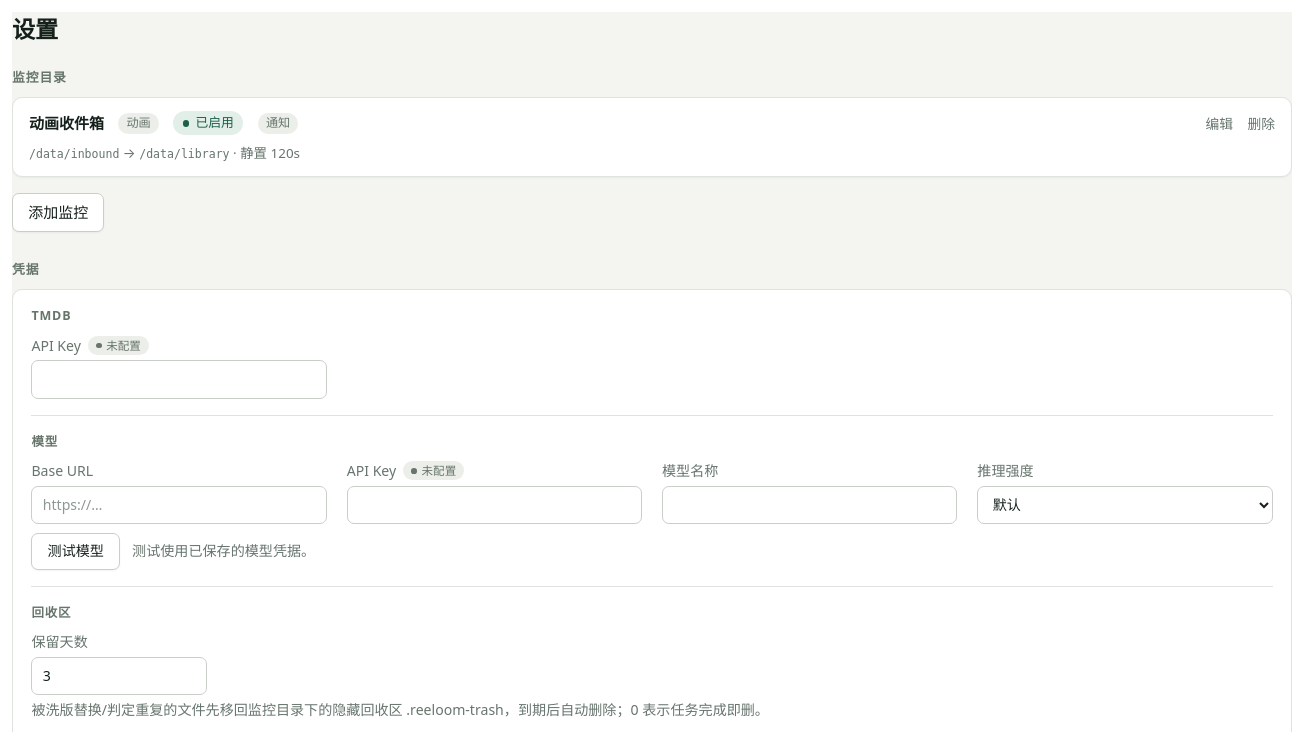
Test case: settings page › tests the model connection from the credentials form
The width and height of the screenshot is (1292, 732).
Click the button "测试模型". click: click(76, 551)
box: [31,533,120,570]
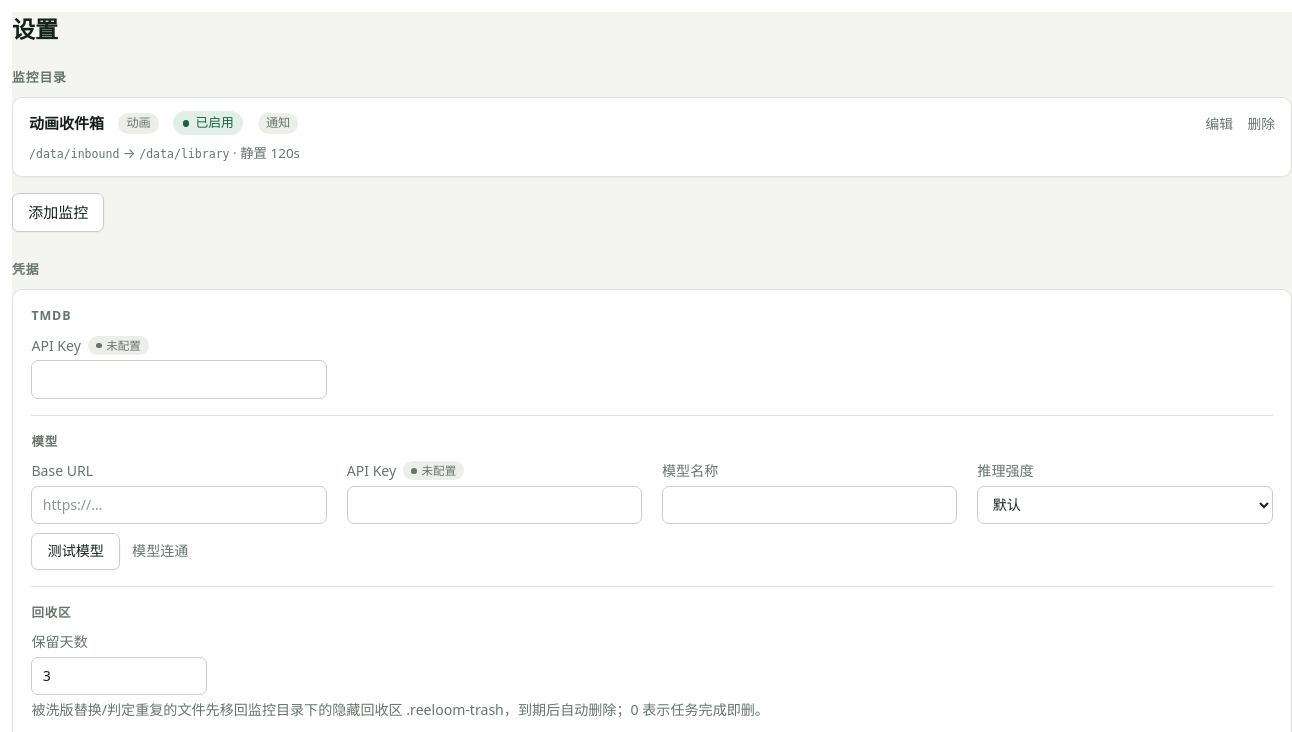
expect the text "模型连通" is shown: met, box [132,540,188,562]
